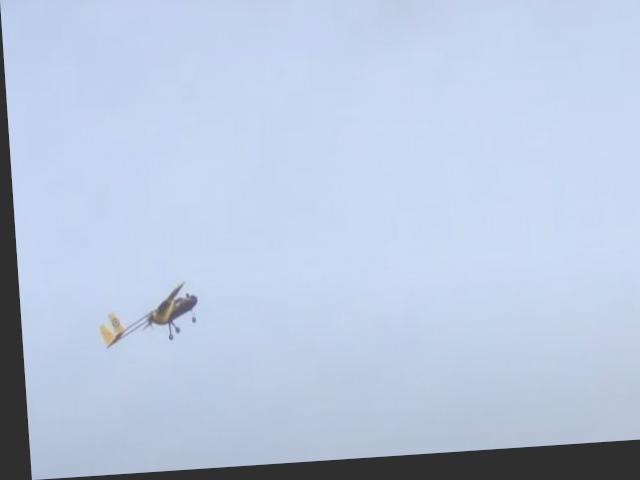iha: (85, 272, 204, 349)
